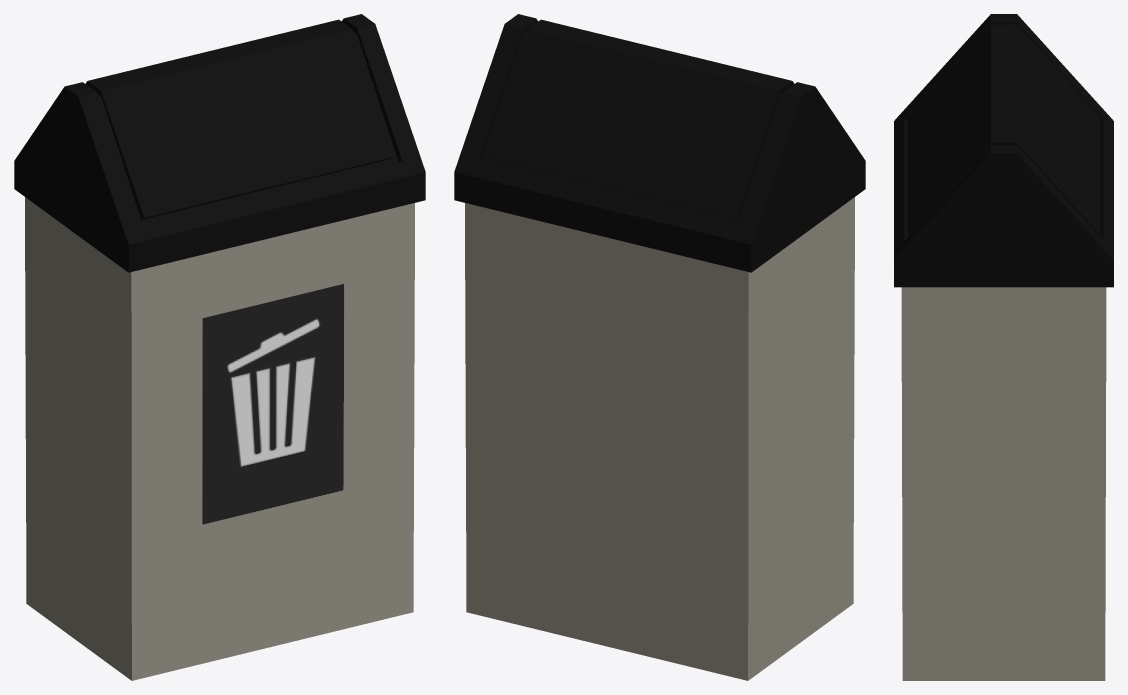
File: Bin-Recycling-Office_01.fbx
3 views of the same model, side by side, from view 1: azimuth 30°, elevation 25°; view 2: azimuth 150°, elevation 25°; view 3: azimuth 270°, elevation 25° (orthographic). The views are drawn at different scales.
Parts seen in each view (by area): view 1: Office_Bin_Recycling; view 2: Office_Bin_Recycling; view 3: Office_Bin_Recycling.
Part boxes in pixels (x1,y1,x2,y2): Office_Bin_Recycling: [14, 14, 425, 680]; Office_Bin_Recycling: [454, 14, 865, 680]; Office_Bin_Recycling: [894, 14, 1113, 680].
Bounding box in the file's own units: 45 × 80 × 30.
